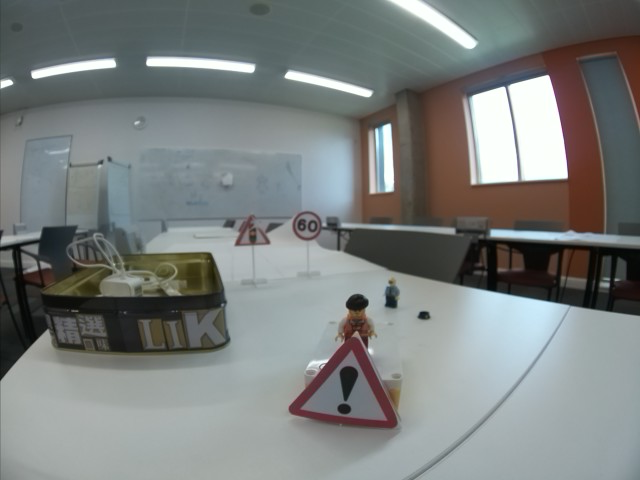60mph: (292, 211, 323, 240)
Lego Man: (334, 293, 380, 348), (384, 277, 402, 308)
Traffic lights: (232, 214, 272, 247)
Warning: (285, 334, 410, 427)
